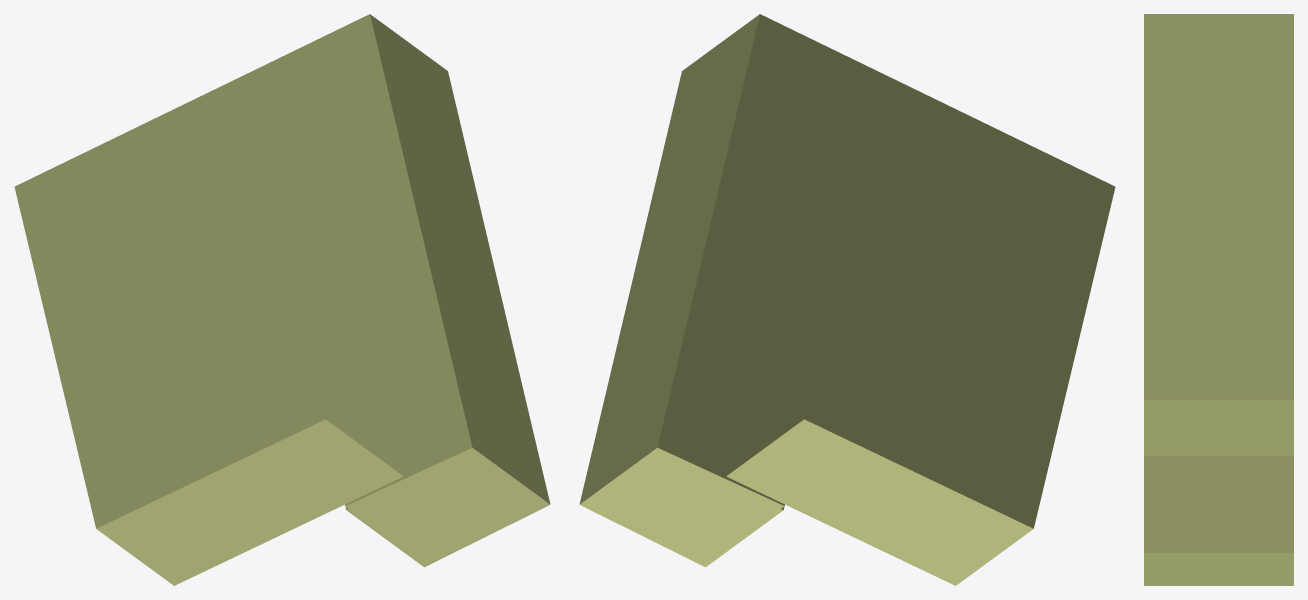
3 renders of one model, left to right at view 1: azimuth 30°, elevation 25°; view 2: azimuth 150°, elevation 25°; view 3: azimuth 270°, elevation 25°, orthographic. The views are drawn at different scales.
Visible parts, largest first — view 1: 0_1_0_0_3_0_3_1_1_3; view 2: 0_1_0_0_3_0_3_1_1_3; view 3: 0_1_0_0_3_0_3_1_1_3.
Part boxes in pixels (x1,y1,x2,y2): 0_1_0_0_3_0_3_1_1_3: [14, 14, 550, 585]; 0_1_0_0_3_0_3_1_1_3: [579, 14, 1115, 585]; 0_1_0_0_3_0_3_1_1_3: [1144, 14, 1293, 585].
Bounding box in the file's own units: 20.33 × 20.8 × 6.
